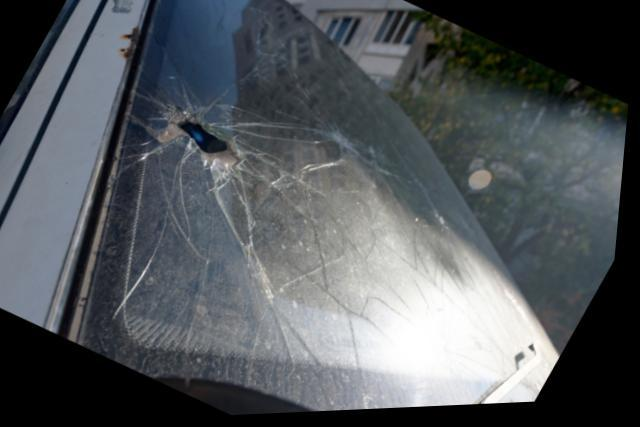glass shatter: (73, 0, 568, 418)
